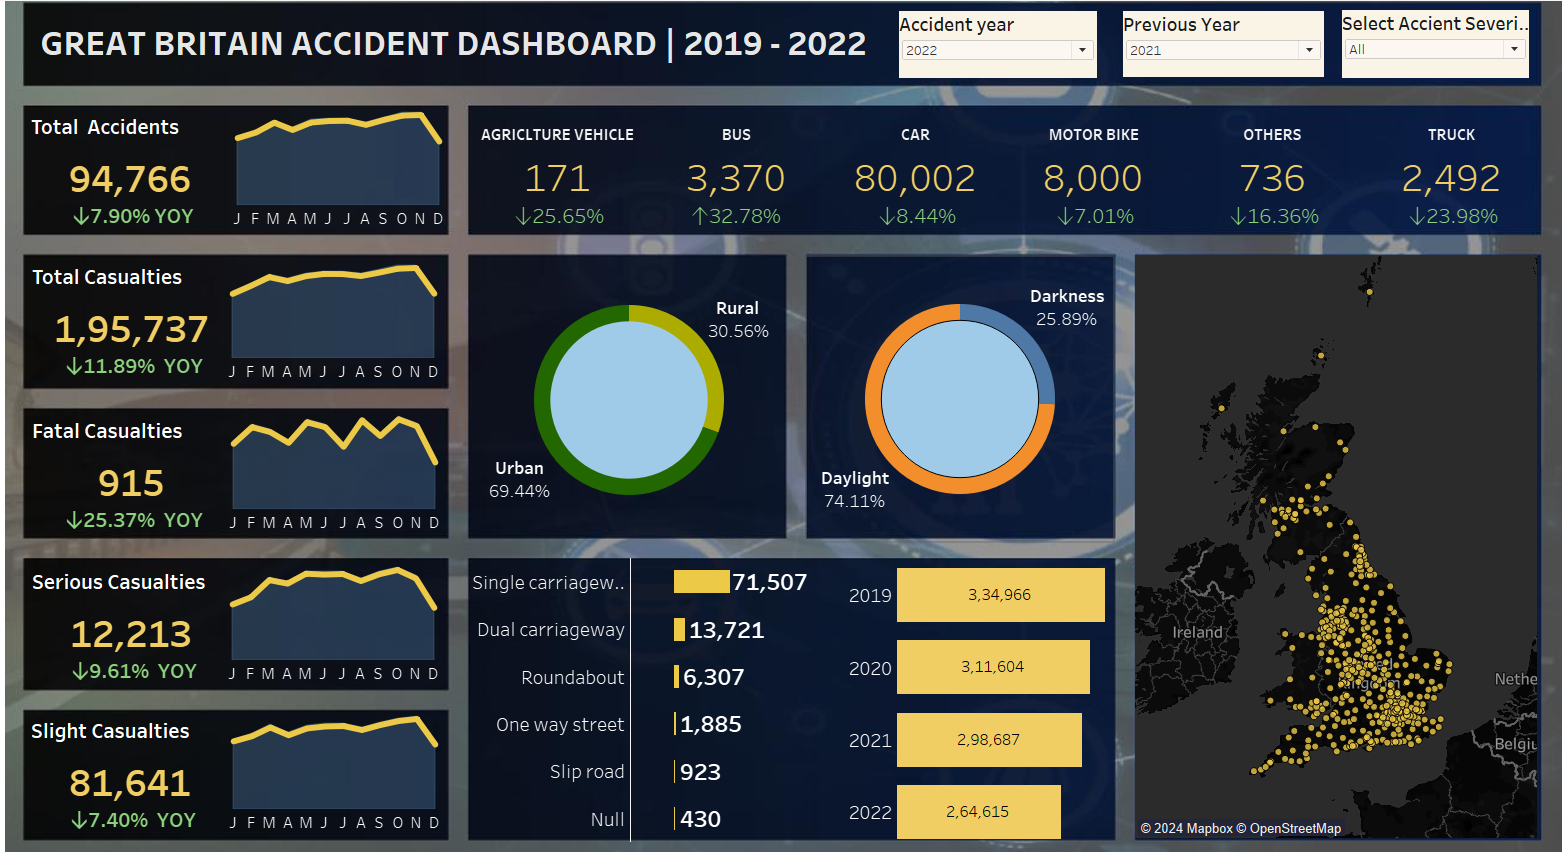

Layout of this report page (visuals, bound fields, positions):
{"tool":"tableau","page":{"name":"GREAT BRITAIN ACCIDENT DASHBOARD | 2019 - 2022","canvas":[1600,900],"ordinal":0},"visuals":[{"type":"image","param":"C:/Users/HP/Downloads/Background.pptx (1).jpg","box":[8,8,1584,884]},{"type":"text","box":[53,25,840,90]},{"type":"parameter","param":"[Parameters].[Parameter 2]","box":[1358,38,187,68]},{"type":"parameter","param":"[Parameters].[Parameter 1]","box":[915,39,198,67]},{"type":"parameter","param":"[Parameters].[Accident year (copy)_946037429289545731]","box":[1139,39,201,66]},{"type":"worksheet","title":"TA Line Graph","mark":"Automatic","rows":["Calculation_946037429292900356","Calculation_946037429292900356"],"cols":["Accident Date"],"box":[240,131,228,131]},{"type":"worksheet","title":"Total  Accidents","mark":"Automatic","box":[39,132,216,132]},{"type":"worksheet","title":"Vehicles KPIS","mark":"Automatic","box":[484,133,1073,132]},{"type":"worksheet","title":"Total Casualties","mark":"Automatic","box":[40,282,216,132]},{"type":"worksheet","title":"MAP","mark":"Multipolygon","rows":["Latitude"],"cols":["Longitude"],"box":[1151,283,402,583]},{"type":"worksheet","title":"TC Line Graph","mark":"Automatic","rows":["Current Year Accients (copy)_946037429296603144","Current Year Accients (copy)_946037429296603144"],"cols":["Accident Date"],"box":[235,284,228,131]},{"type":"worksheet","title":"LIGHT","mark":"Pie","rows":["Calculation_946037429333778459","Calculation_946037429333778459"],"box":[823,285,306,284]},{"type":"worksheet","title":"Area","mark":"Pie","rows":["Calculation_946037429333778459","Calculation_946037429333778459"],"box":[487,286,316,284]},{"type":"worksheet","title":"FC Line Graph","mark":"Automatic","rows":["Current Year Accients (copy)_946037429300031500","Current Year Accients (copy)_946037429300031500"],"cols":["Accident Date"],"box":[236,435,228,131]},{"type":"worksheet","title":"Fatal Casualties","mark":"Automatic","box":[40,436,216,132]},{"type":"worksheet","title":"SR C Line Graph","mark":"Automatic","rows":["Current Year Fatal Casualties (copy)_946037429304225807","Current Year Fatal Casualties (copy)_946037429304225807"],"cols":["Accident Date"],"box":[235,586,228,131]},{"type":"worksheet","title":"ROAD TYPES","mark":"Bar","rows":["Road_Type"],"cols":["Calculation_946037429292900356"],"box":[486,586,339,284]},{"type":"worksheet","title":"Serious Casualties","mark":"Automatic","box":[40,587,216,132]},{"type":"worksheet","title":"Year","mark":"Bar","rows":["Calculation_946037429287776258"],"cols":["Number_of_Vehicles"],"box":[833,587,298,289]},{"type":"worksheet","title":"S C Line Graph","mark":"Automatic","rows":["Current Year Serious Casualties (copy)_946037429305012242","Current Year Serious Casualties (copy)_946037429305012242"],"cols":["Accident Date"],"box":[236,735,228,131]},{"type":"worksheet","title":"Slight Casualties","mark":"Automatic","box":[39,736,216,132]}]}

Visuals, with their boxes on the page's 1600x900 design canvas (x1, y1, x2, y2). These are canvas units, not pixel positions in the 1562x852 screenshot, which may show the page scaled, cropped or inside an application window:
image: bbox=[8, 8, 1592, 892]
text: bbox=[53, 25, 893, 115]
parameter: bbox=[1358, 38, 1545, 106]
parameter: bbox=[915, 39, 1113, 106]
parameter: bbox=[1139, 39, 1340, 105]
"TA Line Graph" worksheet: bbox=[240, 131, 468, 262]
"Total  Accidents" worksheet: bbox=[39, 132, 255, 264]
"Vehicles KPIS" worksheet: bbox=[484, 133, 1557, 265]
"Total Casualties" worksheet: bbox=[40, 282, 256, 414]
"MAP" worksheet (Multipolygon marks): bbox=[1151, 283, 1553, 866]
"TC Line Graph" worksheet: bbox=[235, 284, 463, 415]
"LIGHT" worksheet (Pie marks): bbox=[823, 285, 1129, 569]
"Area" worksheet (Pie marks): bbox=[487, 286, 803, 570]
"FC Line Graph" worksheet: bbox=[236, 435, 464, 566]
"Fatal Casualties" worksheet: bbox=[40, 436, 256, 568]
"SR C Line Graph" worksheet: bbox=[235, 586, 463, 717]
"ROAD TYPES" worksheet (Bar marks): bbox=[486, 586, 825, 870]
"Serious Casualties" worksheet: bbox=[40, 587, 256, 719]
"Year" worksheet (Bar marks): bbox=[833, 587, 1131, 876]
"S C Line Graph" worksheet: bbox=[236, 735, 464, 866]
"Slight Casualties" worksheet: bbox=[39, 736, 255, 868]
